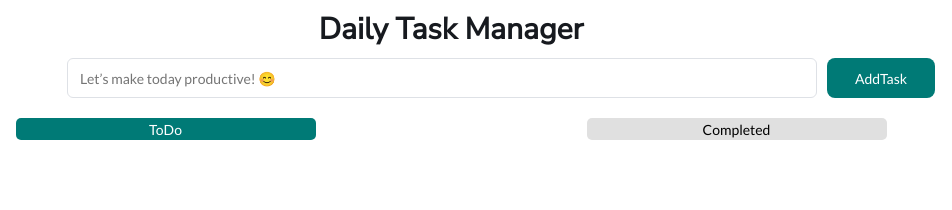
Test case: edits an existing task
// Add the task to be edited
Type "Original Task" into the field with placeholder "Let’s make today productive! 😊" at point(442, 78), box left=67, top=58, right=817, bottom=98
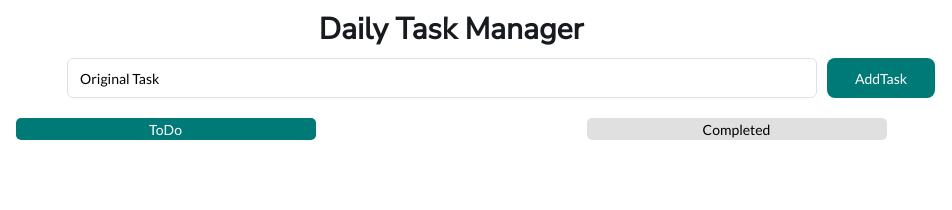
Click the button "AddTask" at point(881, 78), box left=827, top=58, right=935, bottom=98
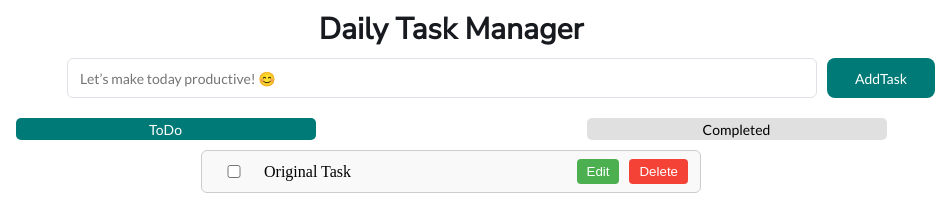
Click the button "Edit" at point(598, 172), box left=576, top=159, right=620, bottom=184
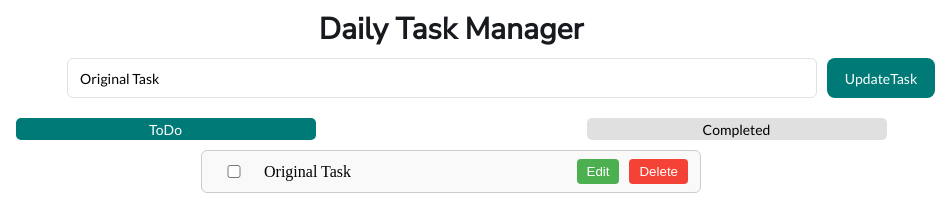
Replace the text in the field with placeholder "Let’s make today productive! 😊" with "Updated Task" at point(442, 78), box left=67, top=58, right=817, bottom=98
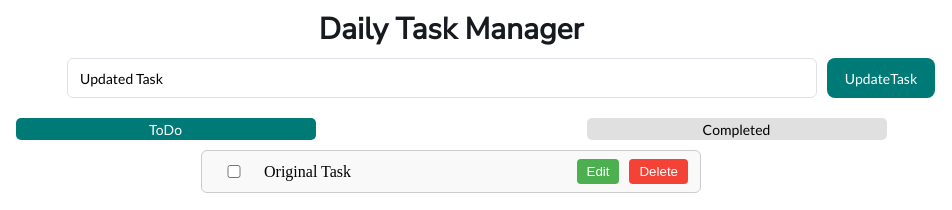
Click the button "UpdateTask" at point(881, 78), box left=827, top=58, right=935, bottom=98
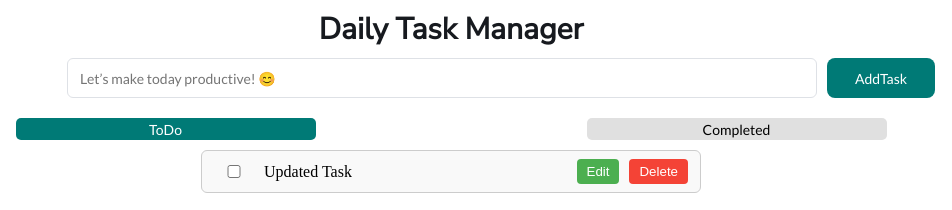
Now the text "Updated Task" is shown, box left=264, top=162, right=352, bottom=180
Now the text "Original Task" is gone
